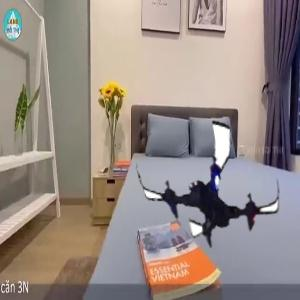drone: (136, 110, 285, 259)
